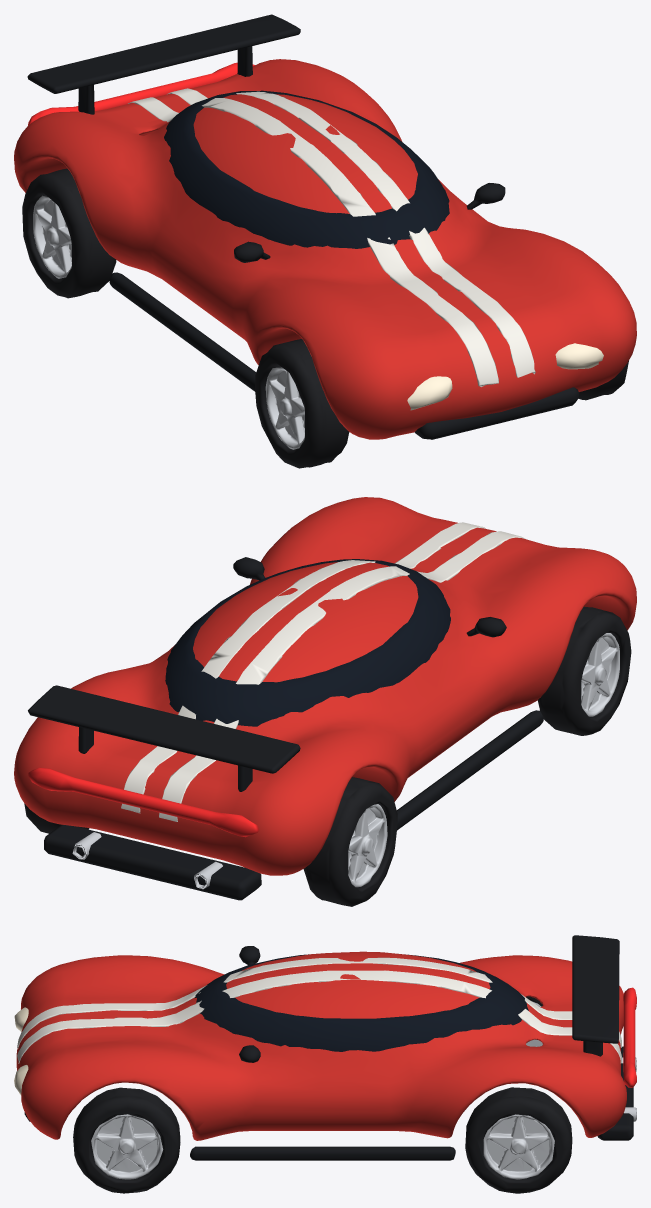
File: gilaf-car-lo.glb
The picture shows the model from 3 angles, top to bottom: view 1: azimuth 30°, elevation 25°; view 2: azimuth 150°, elevation 25°; view 3: azimuth 270°, elevation 25°; orthographic projection. The views are drawn at different scales.
Visible parts, largest first — view 1: Body, Trim, Stripe, Windows, WheelFrontRTire, WheelRearRTire, WheelFrontRRim, WheelRearRRim, Headlights, Brakelights; view 2: Body, Trim, Windows, Stripe, WheelFrontRTire, WheelRearRTire, Brakelights, WheelRearRRim, WheelFrontRRim, Exhaust; view 3: Body, Windows, Trim, Stripe, WheelFrontLTire, WheelRearLTire, WheelRearLRim, WheelFrontLRim, Brakelights, Headlights.
Part boxes in pixels (x1=…): Body: x1=14, y1=59, x2=636, y2=439; Trim: x1=27, y1=14, x2=579, y2=439; Stripe: x1=128, y1=88, x2=535, y2=386; Windows: x1=164, y1=90, x2=449, y2=248; WheelFrontRTire: x1=255, y1=339, x2=349, y2=468; WheelRearRTire: x1=22, y1=168, x2=116, y2=298; WheelFrontRRim: x1=265, y1=367, x2=304, y2=449; WheelRearRRim: x1=33, y1=195, x2=71, y2=278; Headlights: x1=407, y1=343, x2=603, y2=410; Brakelights: x1=28, y1=62, x2=254, y2=125; Body: x1=14, y1=497, x2=636, y2=875; Trim: x1=28, y1=557, x2=543, y2=900; Windows: x1=165, y1=559, x2=450, y2=726; Stripe: x1=121, y1=522, x2=525, y2=821; WheelFrontRTire: x1=537, y1=606, x2=631, y2=735; WheelRearRTire: x1=303, y1=777, x2=397, y2=906; Brakelights: x1=28, y1=767, x2=258, y2=837; WheelRearRRim: x1=348, y1=804, x2=387, y2=887; WheelFrontRRim: x1=581, y1=633, x2=619, y2=716; Exhaust: x1=72, y1=832, x2=222, y2=889; Body: x1=16, y1=951, x2=626, y2=1140; Windows: x1=194, y1=954, x2=528, y2=1051; Trim: x1=24, y1=935, x2=633, y2=1160; Stripe: x1=17, y1=957, x2=621, y2=1063; WheelFrontLTire: x1=73, y1=1087, x2=180, y2=1193; WheelRearLTire: x1=465, y1=1087, x2=572, y2=1193; WheelRearLRim: x1=483, y1=1114, x2=554, y2=1179; WheelFrontLRim: x1=91, y1=1114, x2=163, y2=1179; Brakelights: x1=623, y1=987, x2=636, y2=1087; Headlights: x1=14, y1=1007, x2=28, y2=1095.
Size of the model in its own units: 2.23 by 1.3 by 4.45.
